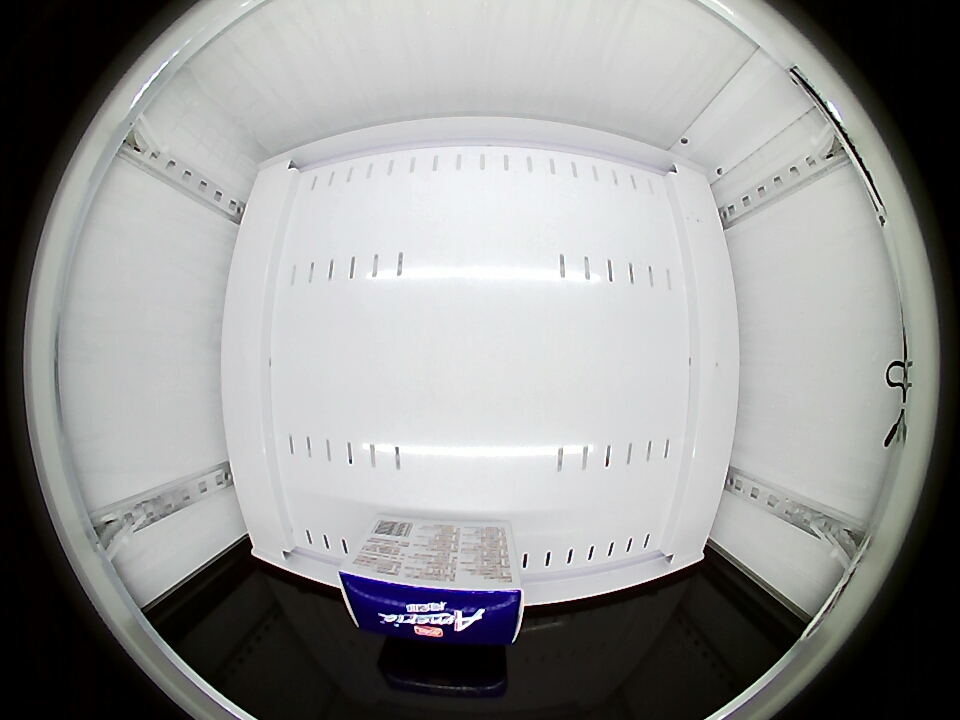meiniye: (337, 546, 525, 647)
